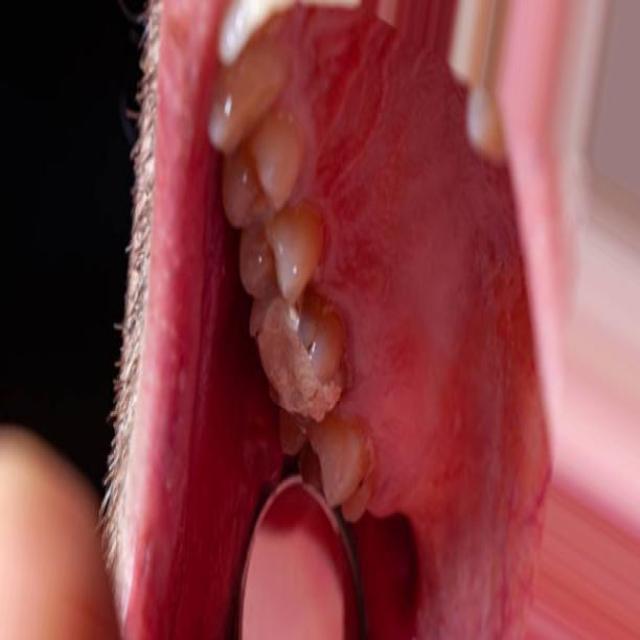caries: (239, 289, 353, 424)
